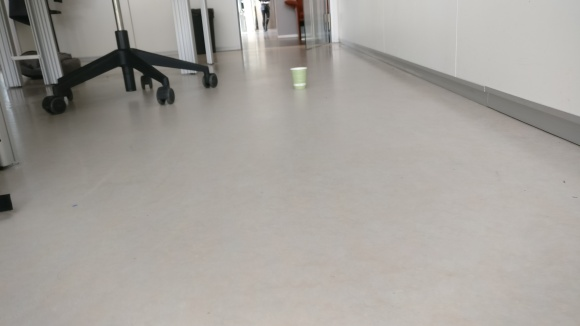cup: (288, 65, 307, 90)
